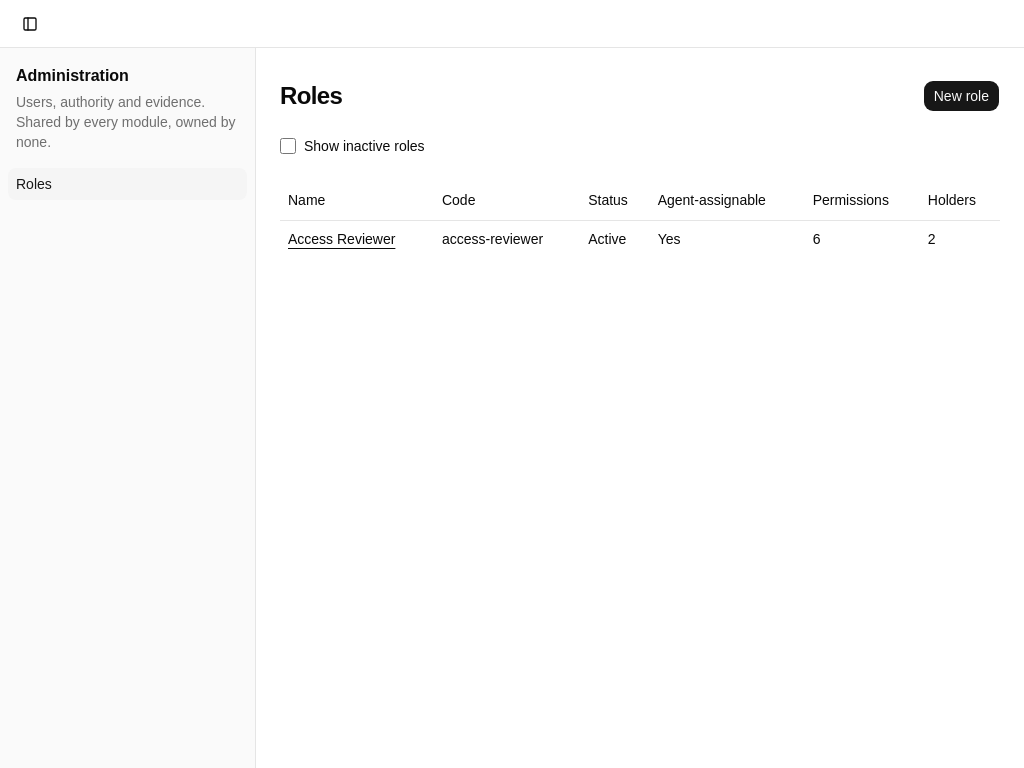
a refusal › is shown word for word, and the dialog keeps what was typed
The width and height of the screenshot is (1024, 768).
Expected: the table named "Roles" is shown, [280,180,1000,256]
Click the button "New role".
click(961, 96)  # box [923,80,1000,112]
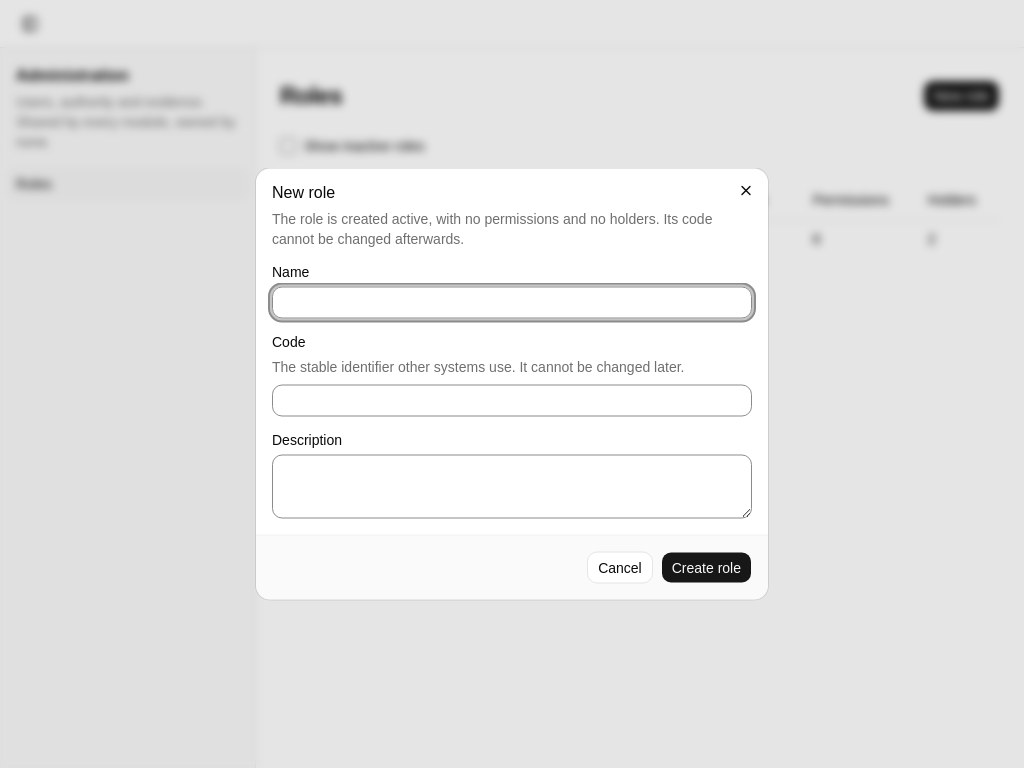
Type keys "Quality Reviewer"
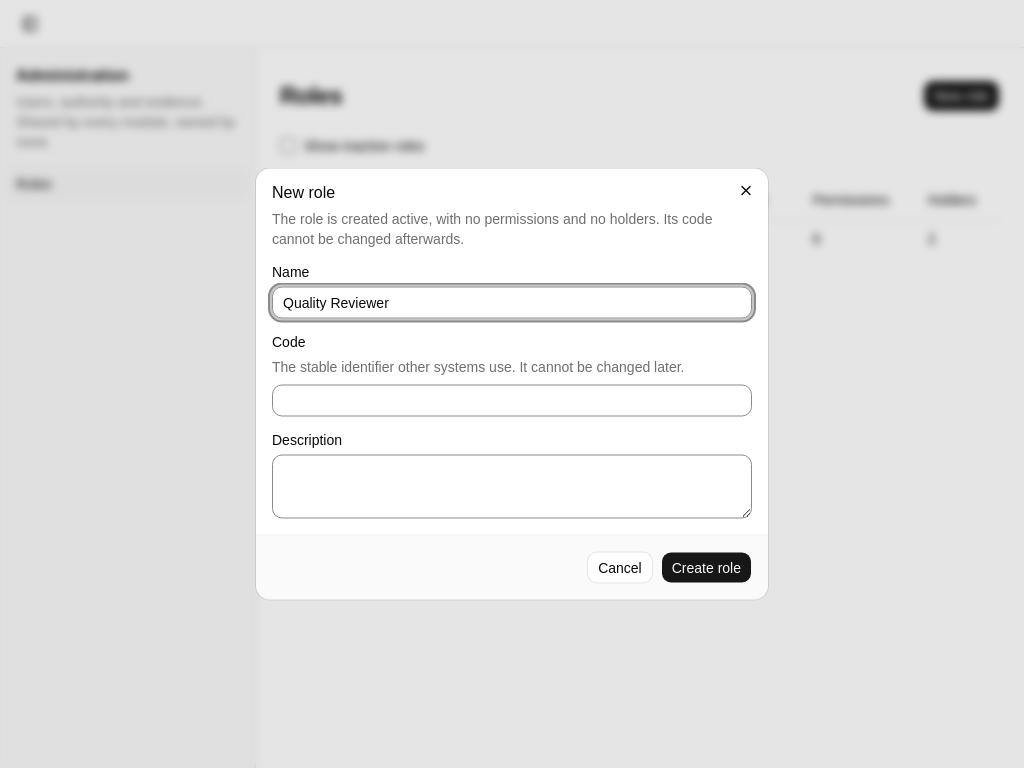
Clear the field labelled "Code" at (512, 400), box [272,384,752,416]
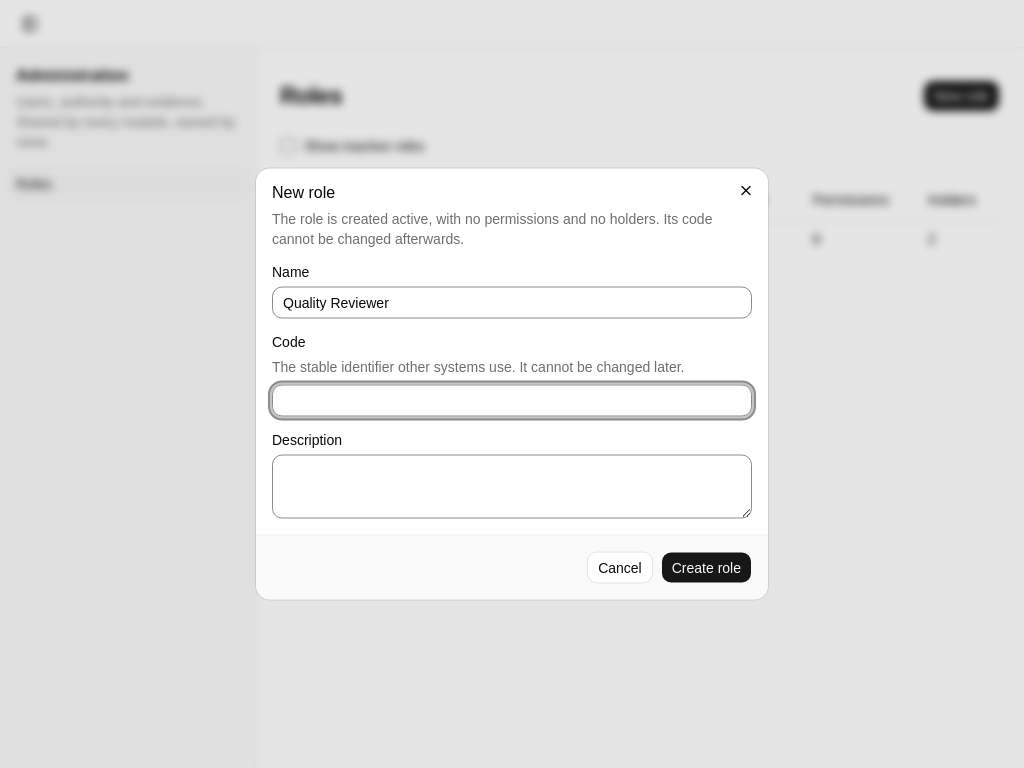
Type keys "access-reviewer"
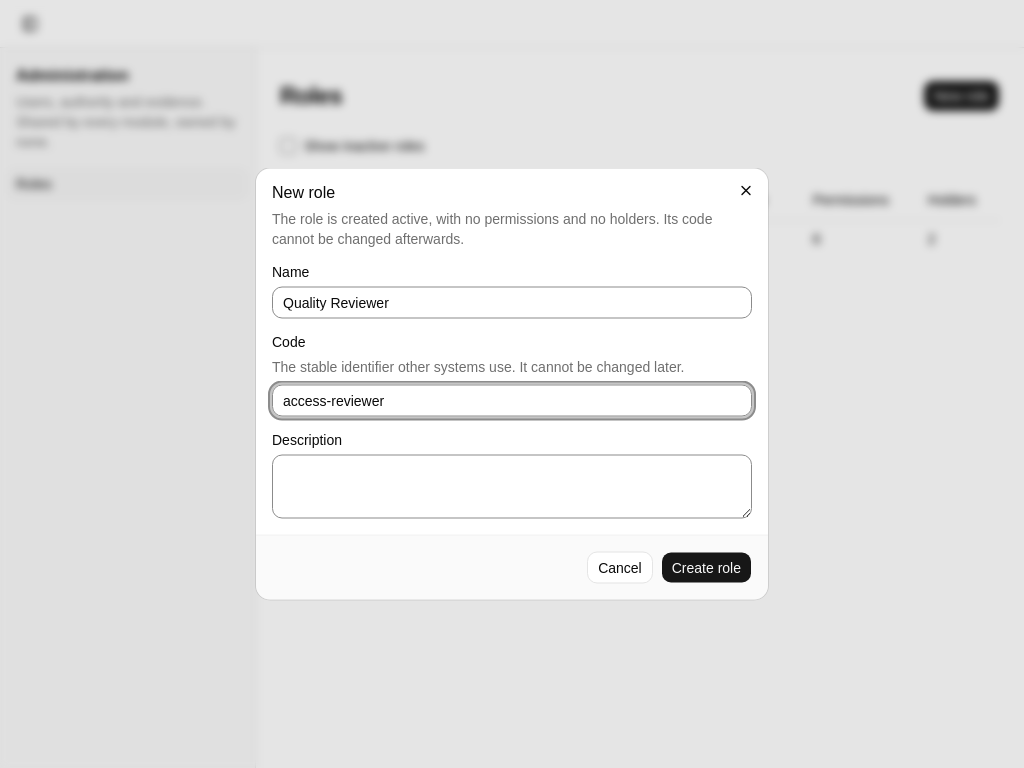
Click the button "Create role".
click(706, 568)  # box [661,552,752,584]
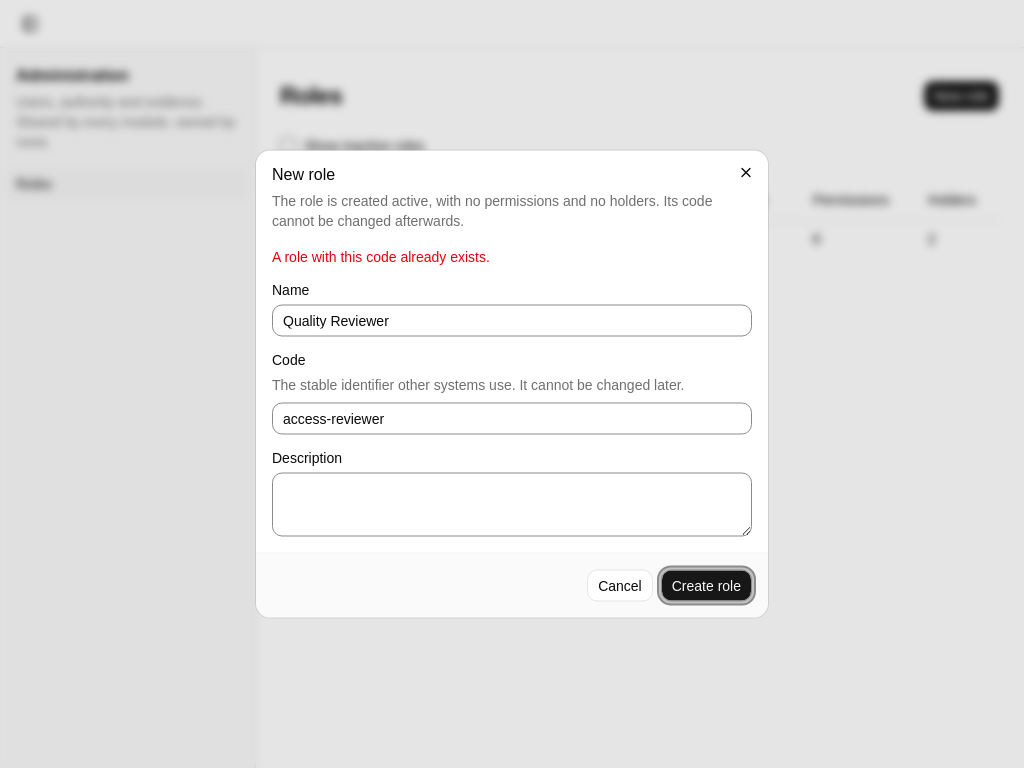
Expected: the field labelled "Code" holds "access-reviewer", [272,402,752,434]
Expected: the field labelled "Name" holds "Quality Reviewer", [272,304,752,336]
Expected: the message reads "A role with this code already exists.", [272,248,490,264]
